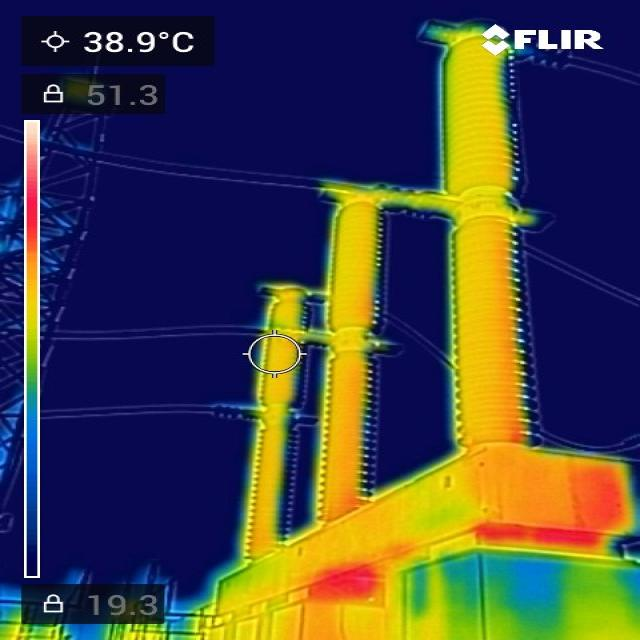Zona_Atenco: (456, 215, 525, 446), (483, 449, 624, 553), (324, 359, 364, 517)
Zona_Critica: (314, 571, 373, 601)
